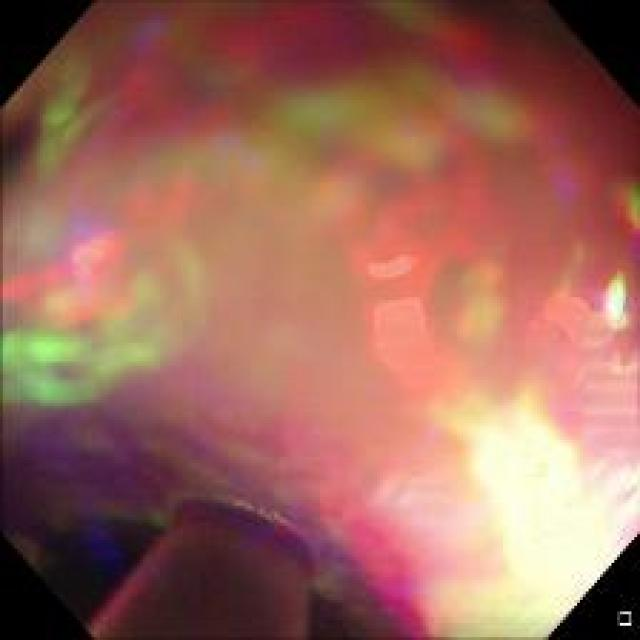color misalignment: (8, 6, 632, 634)
instrument: (81, 502, 320, 634)
saturation: (444, 396, 628, 628)
